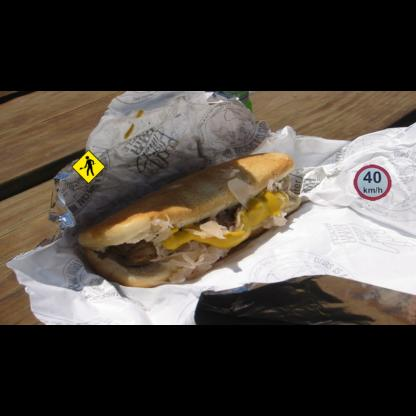A-24: (71, 150, 106, 184)
R-19: (353, 164, 391, 201)
